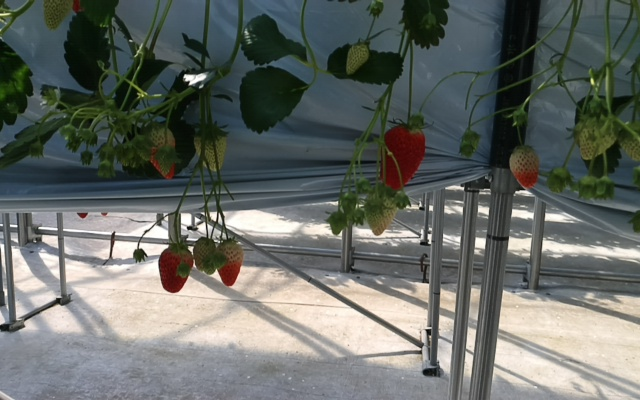GreenStrawberry: (139, 121, 175, 180), (577, 113, 617, 163), (364, 185, 398, 237), (192, 123, 227, 173), (508, 145, 541, 192), (216, 238, 243, 288), (614, 119, 640, 163), (344, 40, 371, 76), (193, 236, 216, 273)
MatureStrawberry: (377, 121, 426, 193), (157, 243, 193, 294)
